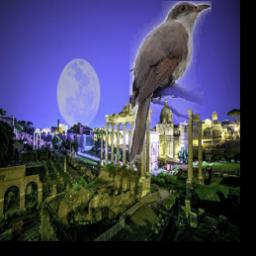Cuckoo: (128, 1, 211, 163)
